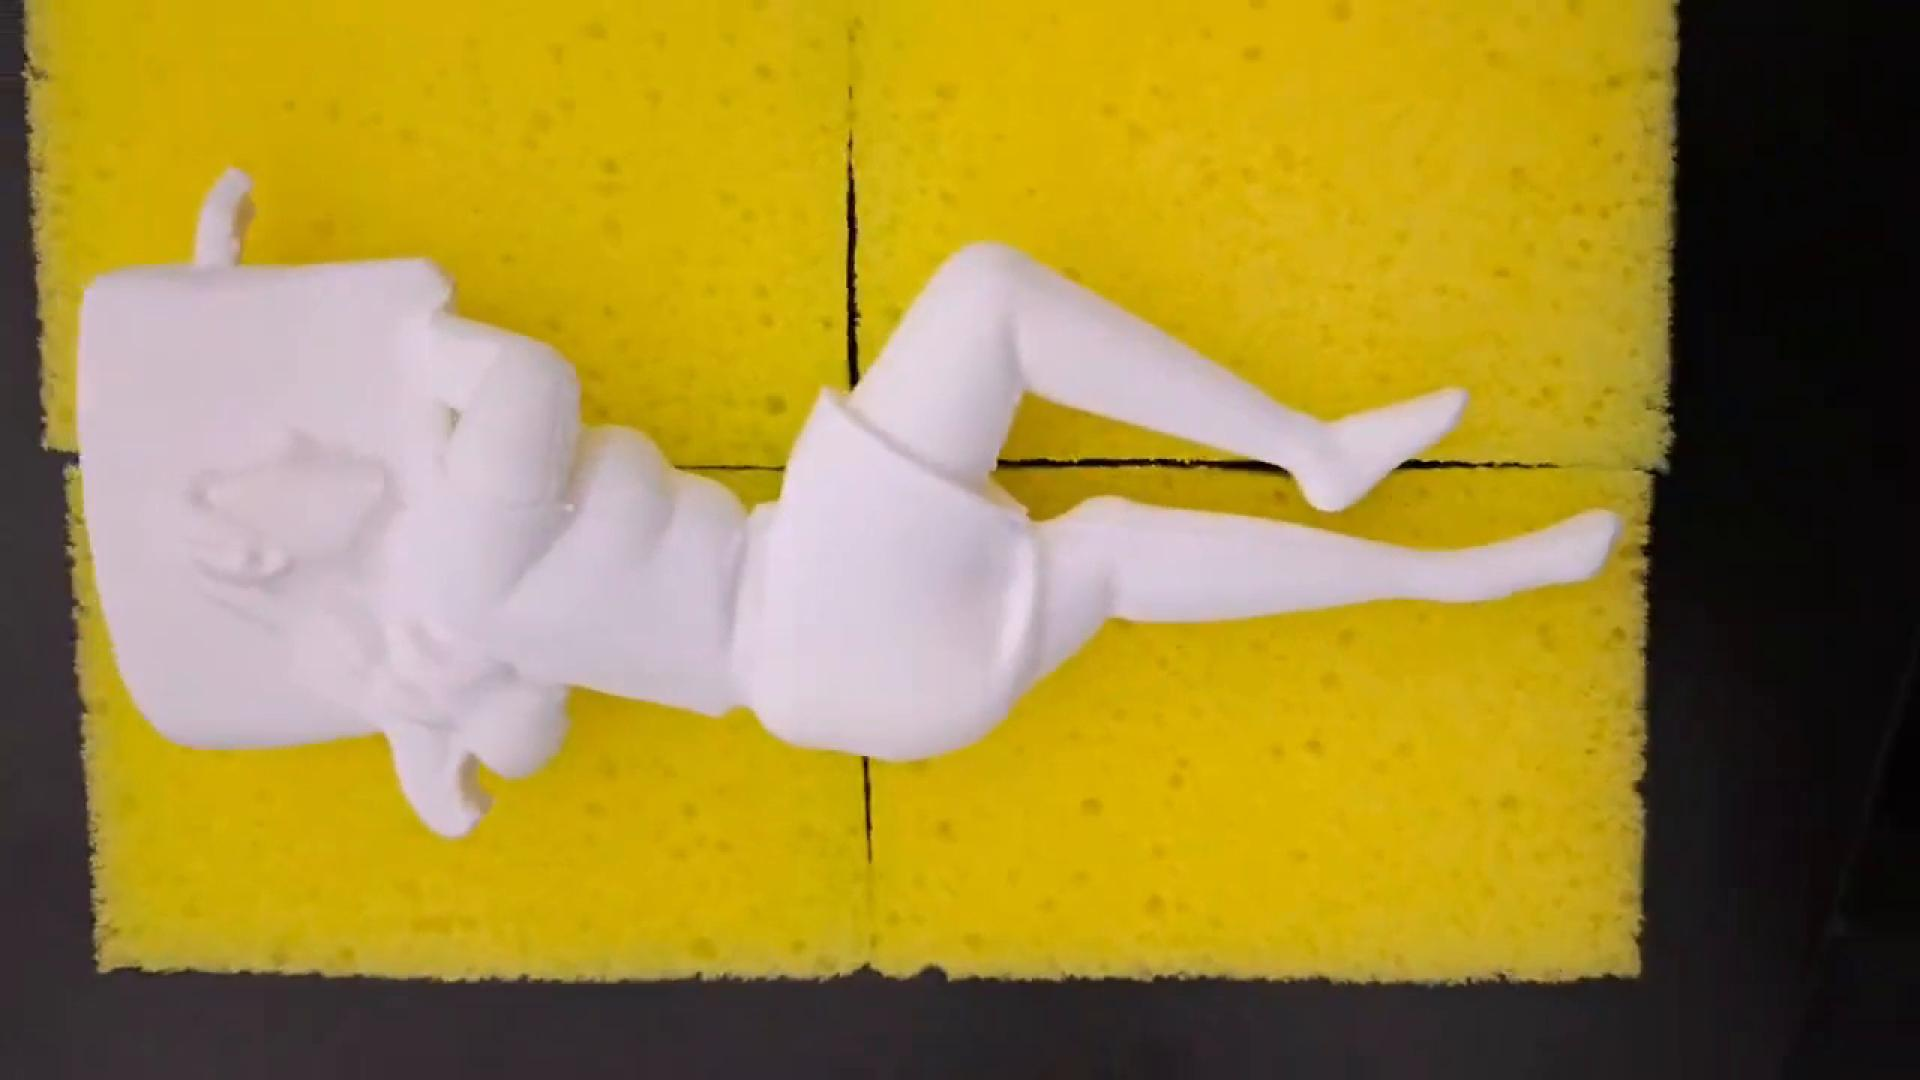Good-style: (46, 178, 1651, 880)
